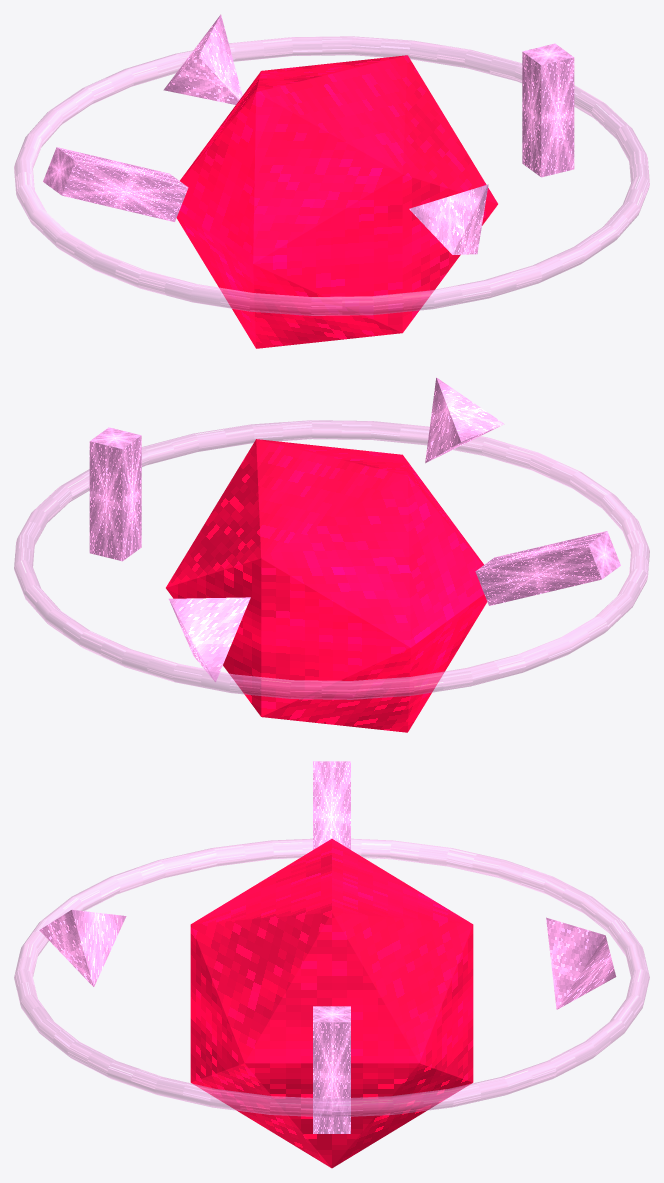
Rendered from anomaly-cluster-rose.glb.
The picture shows the model from 3 angles, top to bottom: view 1: azimuth 30°, elevation 25°; view 2: azimuth 150°, elevation 25°; view 3: azimuth 270°, elevation 25°; orthographic projection.
Visible parts, largest first — view 1: shell, ring, orbital-0, orbital-2, orbital-3, orbital-1; view 2: shell, ring, orbital-0, orbital-2, orbital-3, orbital-1; view 3: shell, ring, orbital-0, orbital-3, orbital-1, orbital-2.
Boxes of the visible parts, left/top/right/bottom form: shell: left=176, top=55, right=497, bottom=348; ring: left=14, top=36, right=649, bottom=315; orbital-0: left=522, top=43, right=574, bottom=177; orbital-2: left=43, top=147, right=188, bottom=221; orbital-3: left=163, top=14, right=242, bottom=104; orbital-1: left=409, top=184, right=488, bottom=254; shell: left=166, top=439, right=487, bottom=732; ring: left=14, top=420, right=649, bottom=699; orbital-0: left=89, top=427, right=141, bottom=561; orbital-2: left=475, top=531, right=620, bottom=605; orbital-3: left=169, top=597, right=250, bottom=681; orbital-1: left=425, top=377, right=504, bottom=463; shell: left=190, top=839, right=473, bottom=1168; ring: left=14, top=838, right=649, bottom=1117; orbital-0: left=313, top=1006, right=350, bottom=1133; orbital-3: left=546, top=917, right=616, bottom=1009; orbital-1: left=39, top=909, right=126, bottom=986; orbital-2: left=313, top=761, right=350, bottom=849.
Bounding box in the file's own units: 2.7 × 1.19 × 2.68.
Materials: 3 (3 with a texture image).
